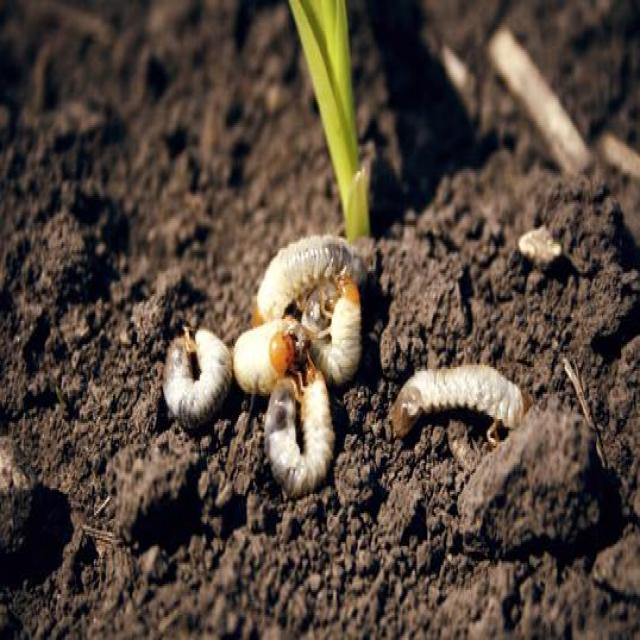Grub-Adult-: (380, 366, 554, 458), (137, 290, 236, 432), (236, 217, 382, 303), (258, 370, 346, 481), (296, 273, 374, 377), (222, 318, 307, 390)
